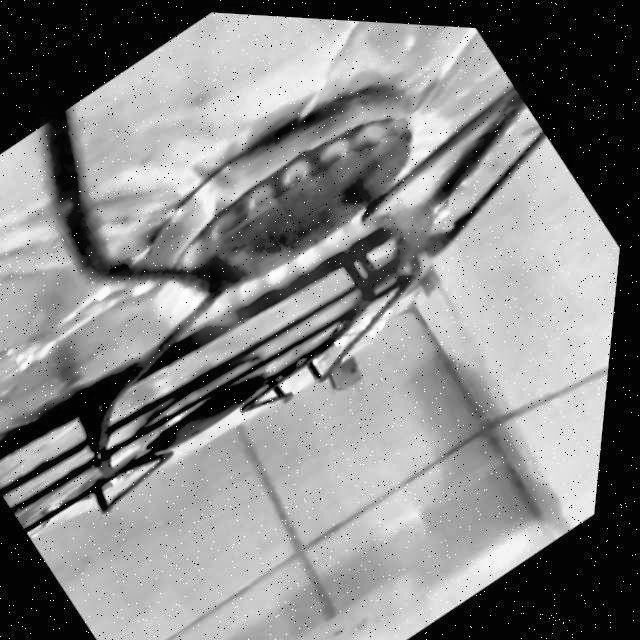Fire: (114, 45, 557, 453)
